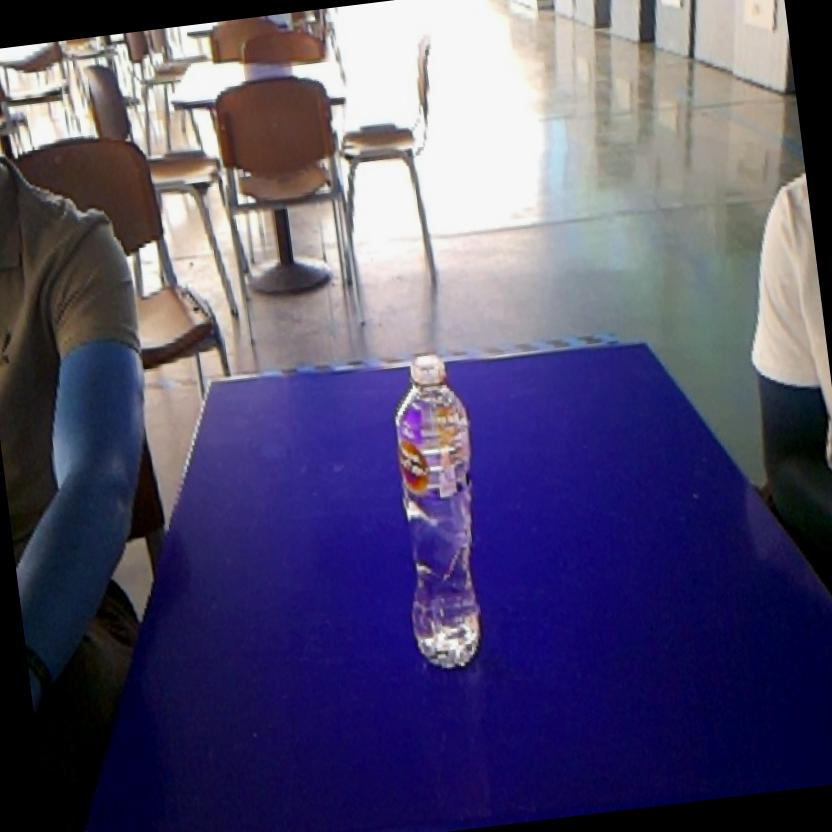no_cap: (371, 335, 506, 686)
